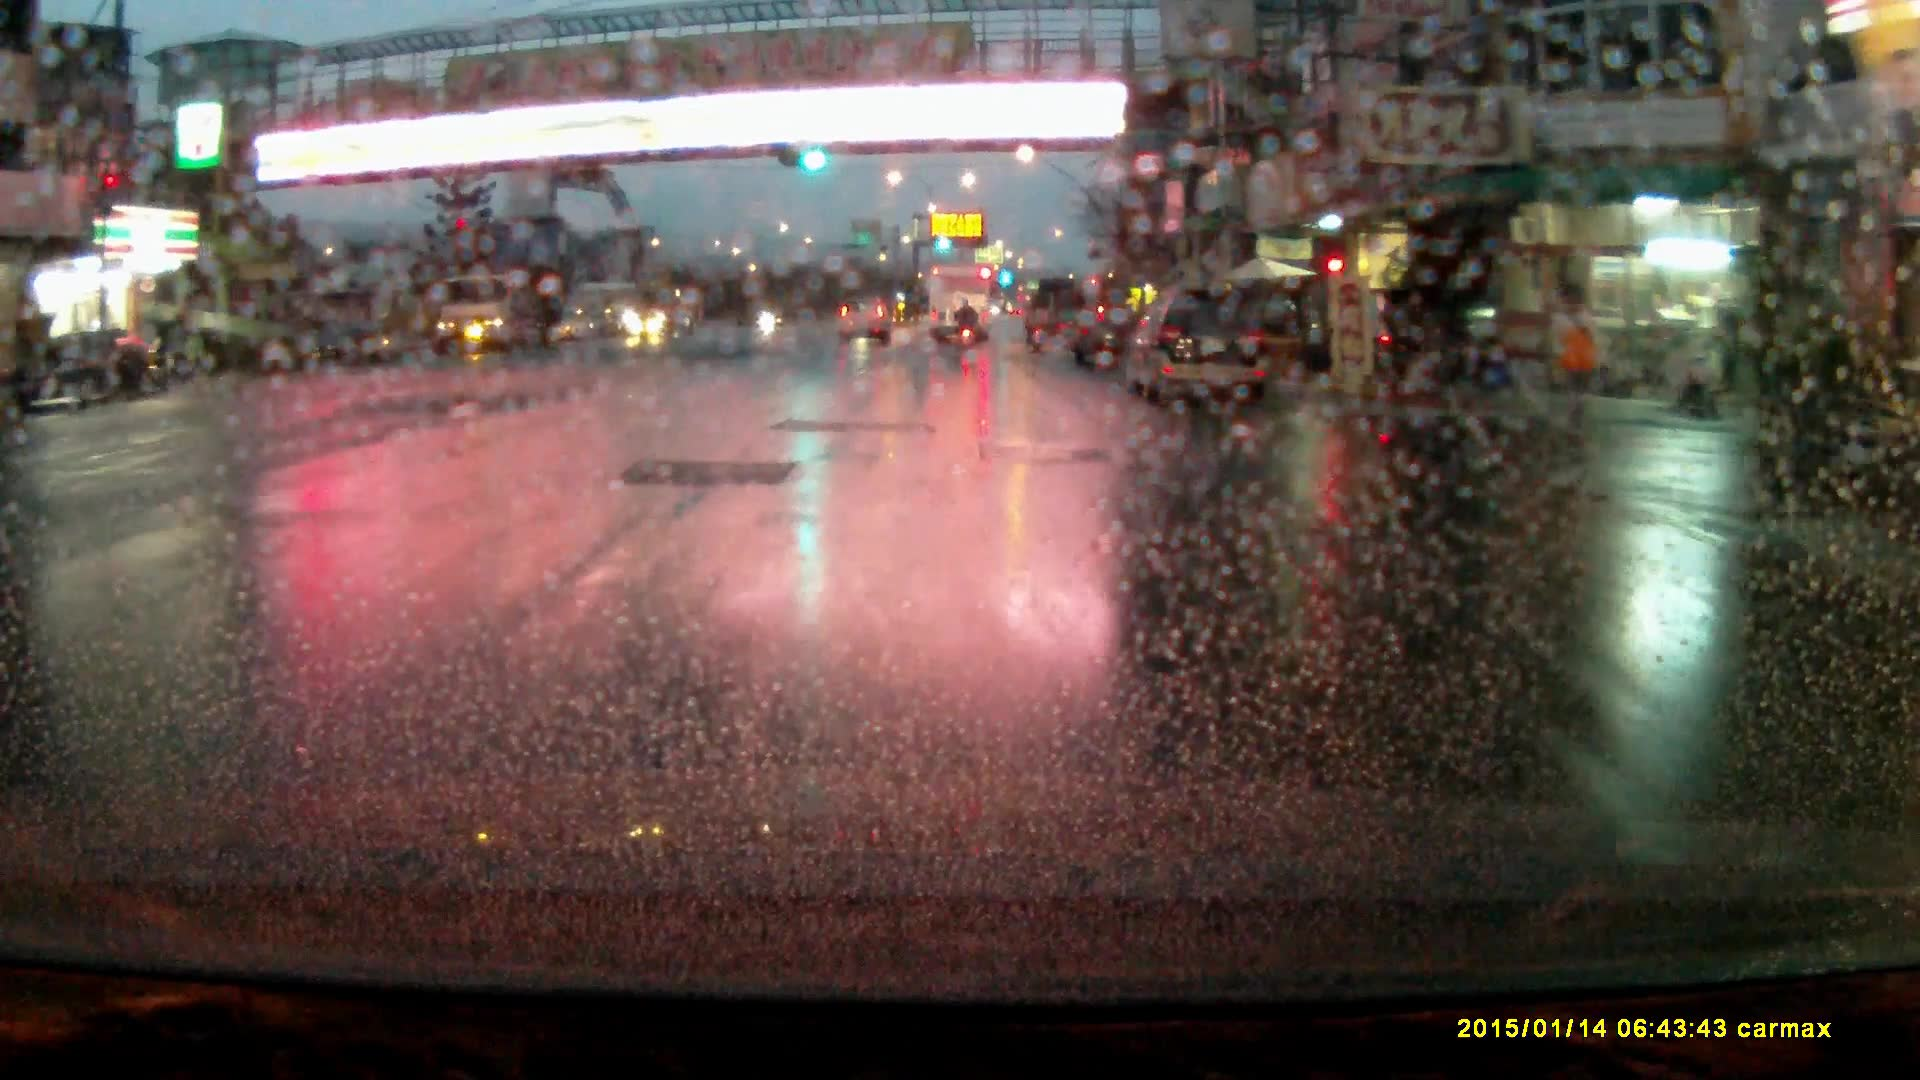pedestrian: (1540, 275, 1606, 462)
rider: (954, 292, 980, 352)
vehicle: (1127, 287, 1270, 403), (9, 325, 153, 412), (1376, 284, 1502, 378), (432, 265, 551, 356), (930, 262, 989, 336), (624, 285, 693, 334), (840, 293, 894, 342)
